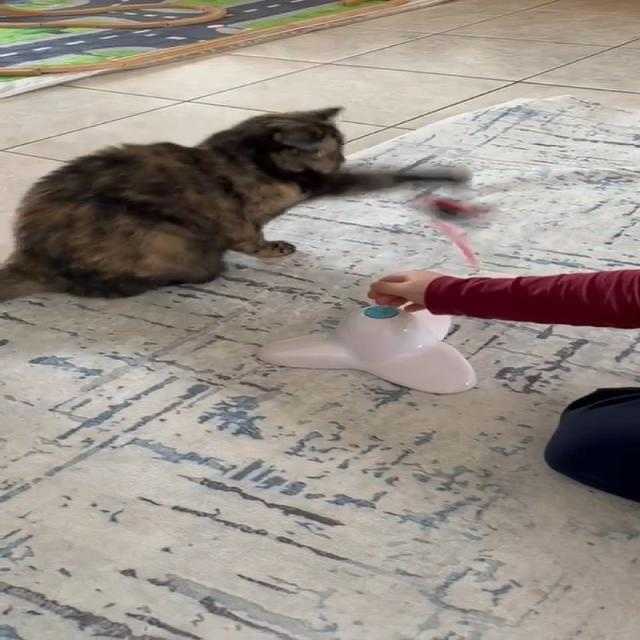authorized: (0, 105, 471, 301)
